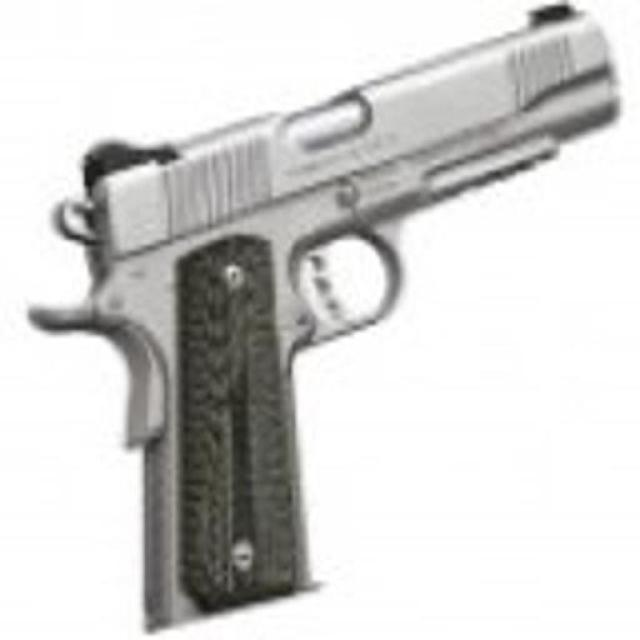pistol: (27, 5, 615, 634)
